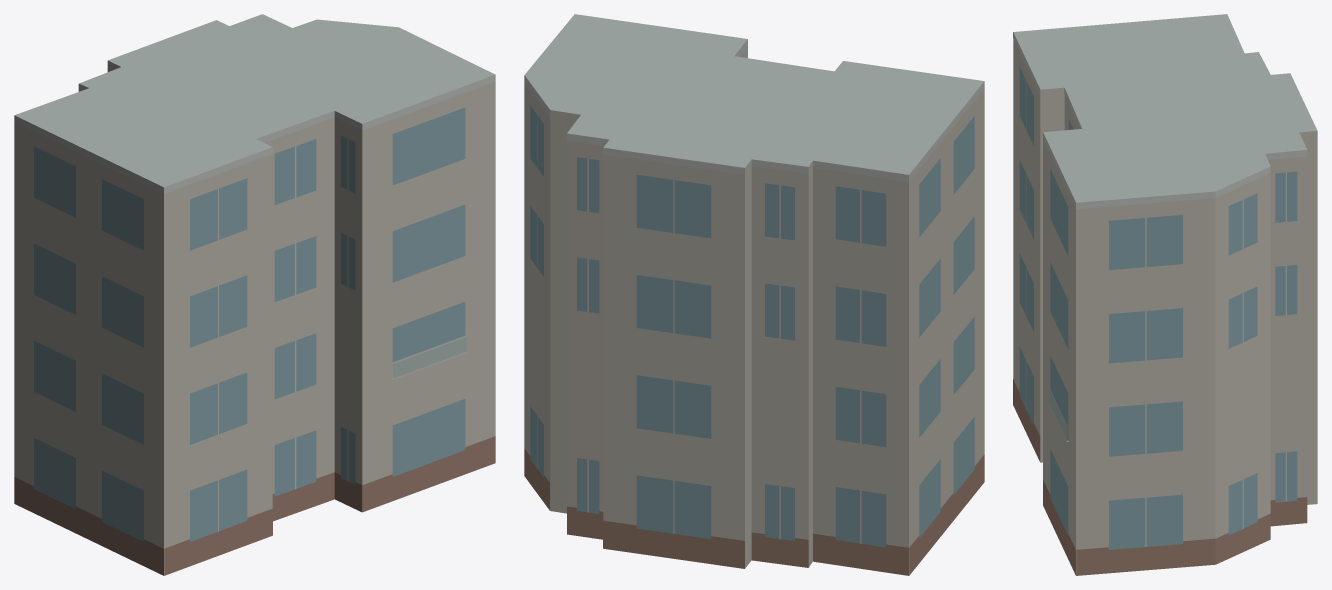
File: survey-upis-32677357.glb
3 renders of one model, left to right at view 1: azimuth 30°, elevation 25°; view 2: azimuth 150°, elevation 25°; view 3: azimuth 270°, elevation 25°, orthographic. The views are drawn at different scales.
Visible parts, largest first — view 1: survey-upis-32677357.tmp; view 2: survey-upis-32677357.tmp; view 3: survey-upis-32677357.tmp.
Part boxes in pixels (<box>): survey-upis-32677357.tmp: <box>14,14,495,575</box>; survey-upis-32677357.tmp: <box>524,14,984,575</box>; survey-upis-32677357.tmp: <box>1013,14,1317,575</box>.
Size of the model in its own units: 15.14 by 13.95 by 10.32.
